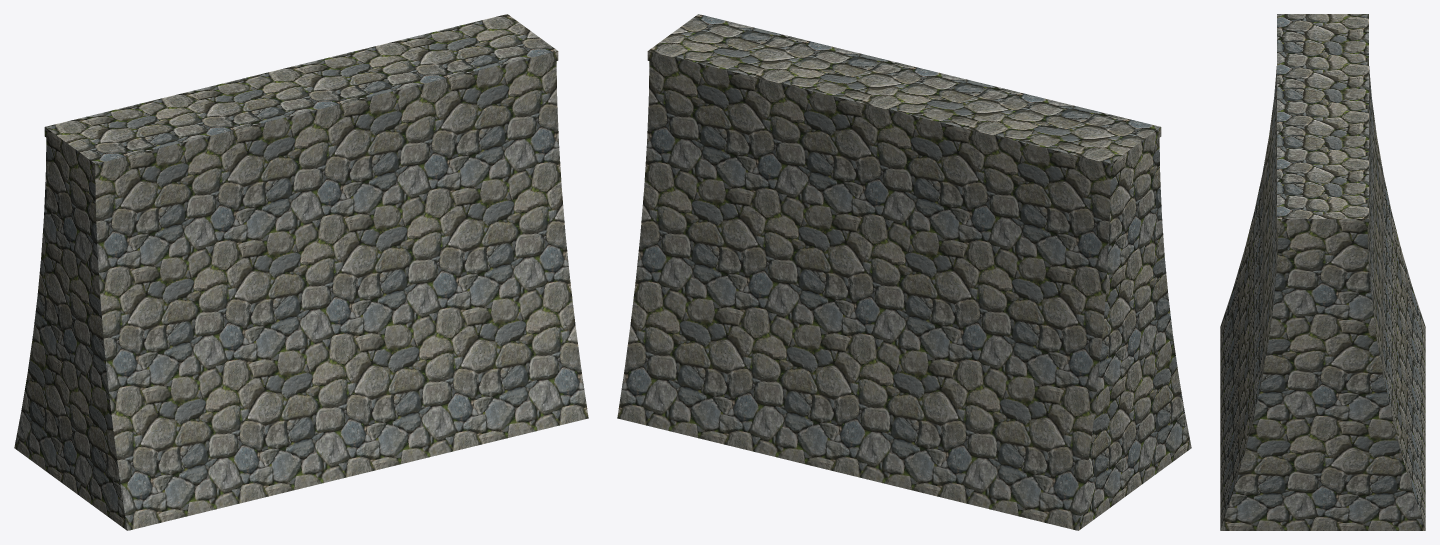
File: castle_ishigaki_wall.glb
3 views of the same model, side by side, from view 1: azimuth 30°, elevation 25°; view 2: azimuth 150°, elevation 25°; view 3: azimuth 270°, elevation 25° (orthographic). The views are drawn at different scales.
Visible parts, largest first — view 1: ishigaki_wall_castle_stone; view 2: ishigaki_wall_castle_stone; view 3: ishigaki_wall_castle_stone.
Boxes of the visible parts, x1,y1,x2,y2 form: ishigaki_wall_castle_stone: (14,14,588,530); ishigaki_wall_castle_stone: (617,14,1191,530); ishigaki_wall_castle_stone: (1220,14,1425,530).
Size of the model in its own units: 12.04 by 8.56 by 5.1.
1 material, 1 textured.
